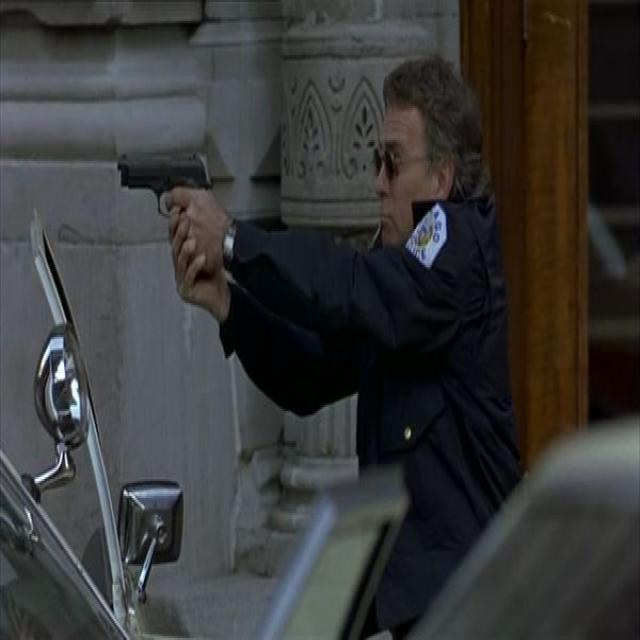weapons: (111, 131, 233, 296)
